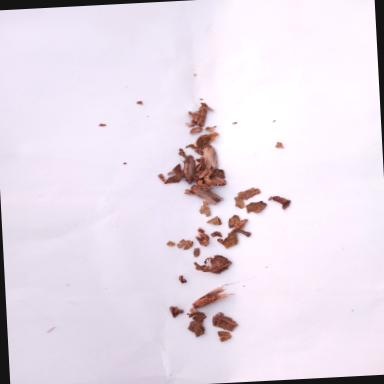pbw: (192, 282, 226, 309), (187, 181, 219, 209), (180, 156, 198, 182), (201, 146, 220, 170)
